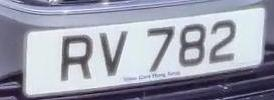2: (205, 16, 240, 67)
7: (141, 21, 179, 77)
8: (174, 18, 209, 68)
R: (56, 28, 98, 89)
V: (95, 27, 134, 82)
